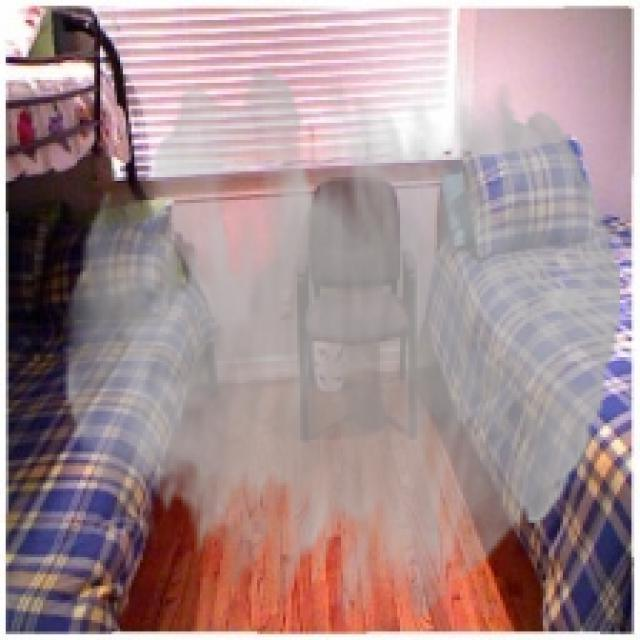Smoke: (63, 69, 620, 626)
